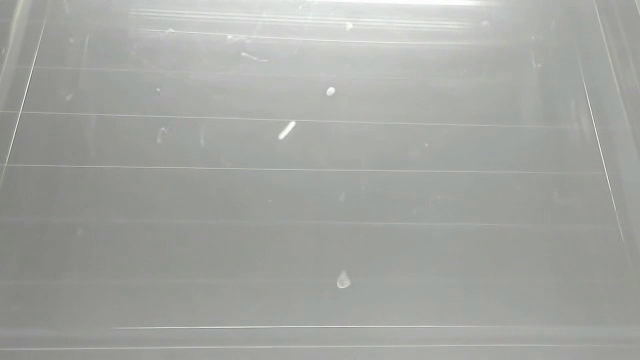alpha: (277, 119, 299, 141), (334, 268, 355, 290), (323, 83, 339, 101), (342, 19, 355, 33)
